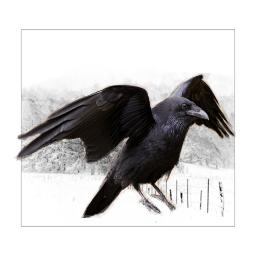Crow: (14, 73, 236, 218)
